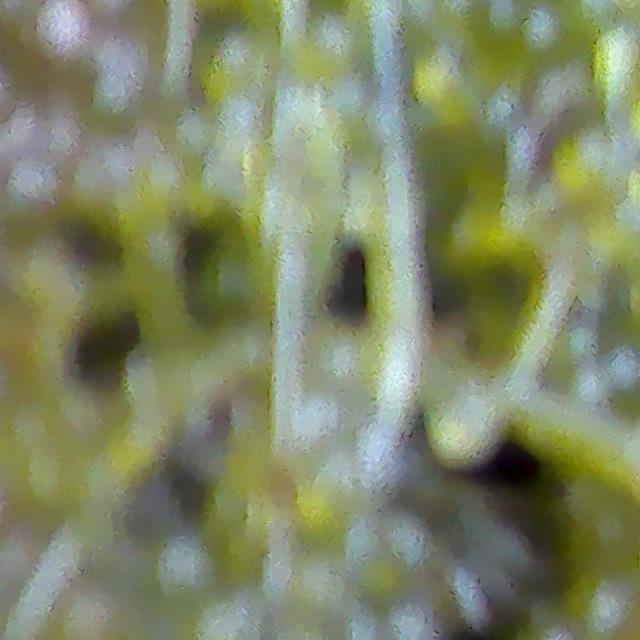SeaGrape: (17, 0, 100, 76), (151, 533, 221, 601)
